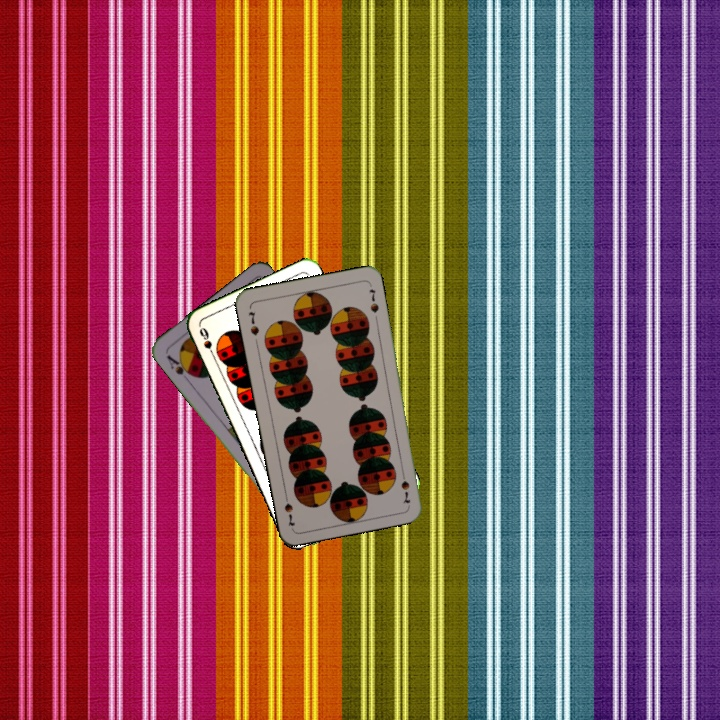S7: (397, 466, 413, 506), (244, 307, 261, 338)
S9: (195, 323, 218, 362)
SA: (163, 351, 196, 380)
